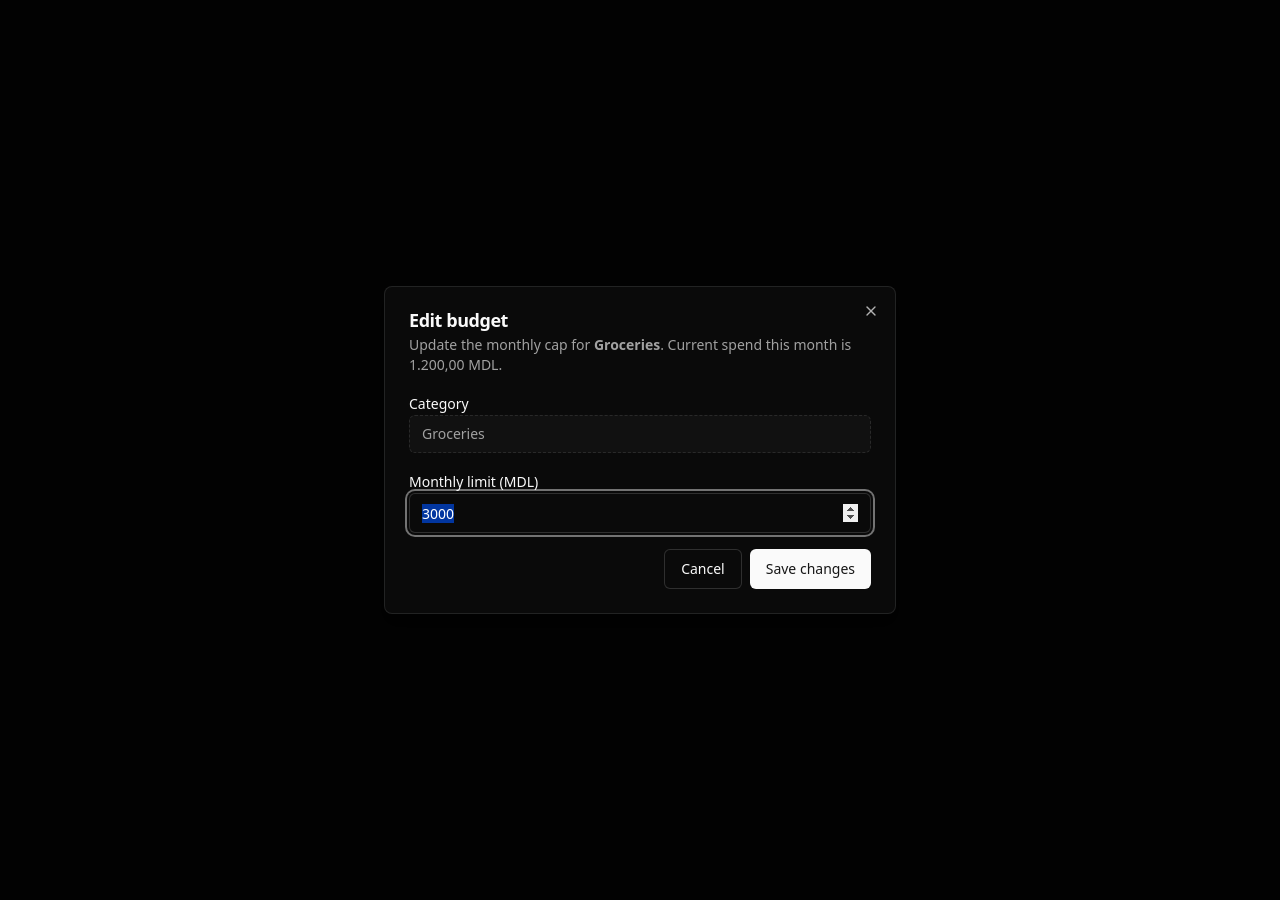
Scenario: EditBudgetDialog › surfaces a 404 as an inline field error
Replace the text in the number field with test id "edit-budget-monthly-limit-input" with "4000" at (640, 513), box [409,493,871,533]
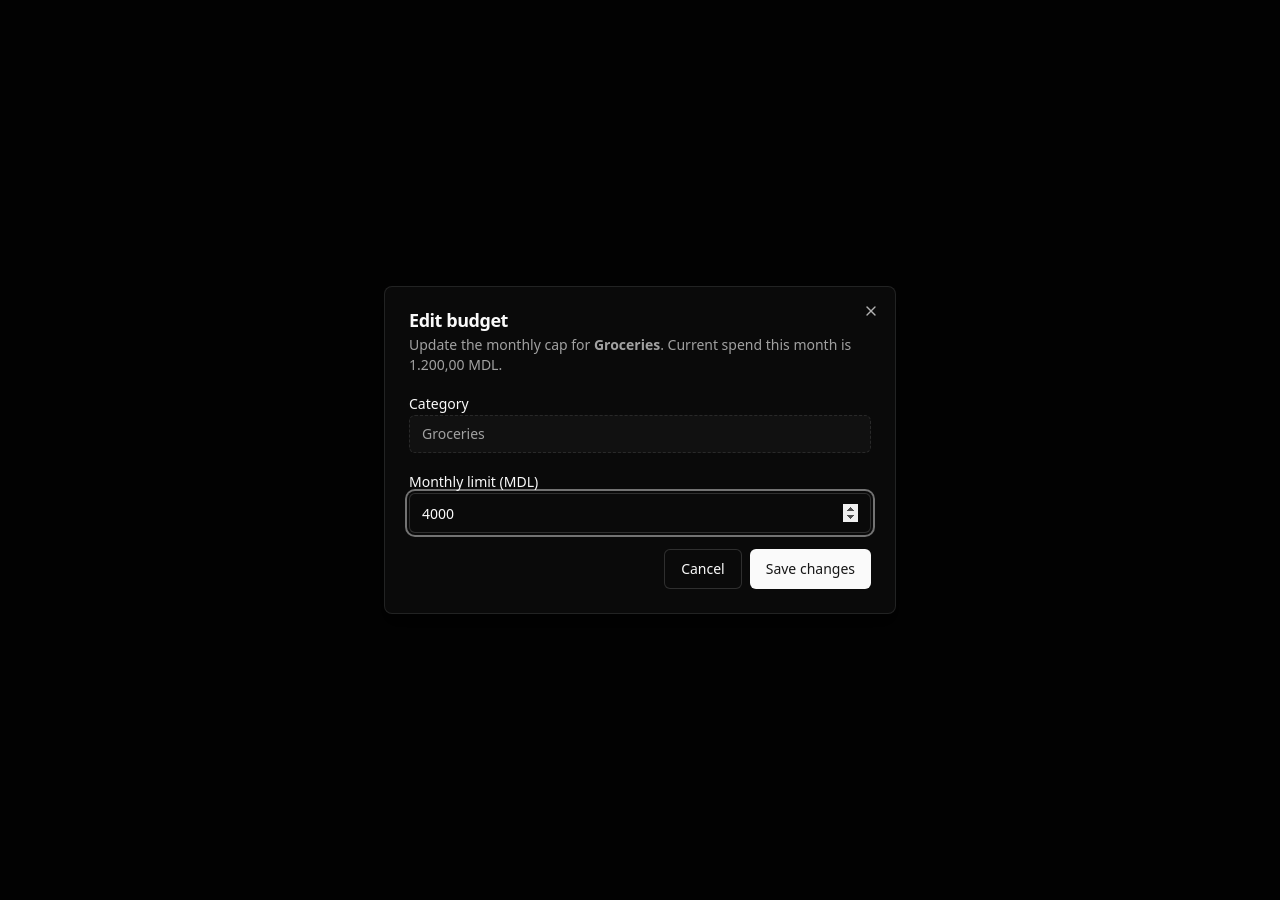
Click the button with test id "edit-budget-submit-button" at (810, 569), box [750,549,871,589]
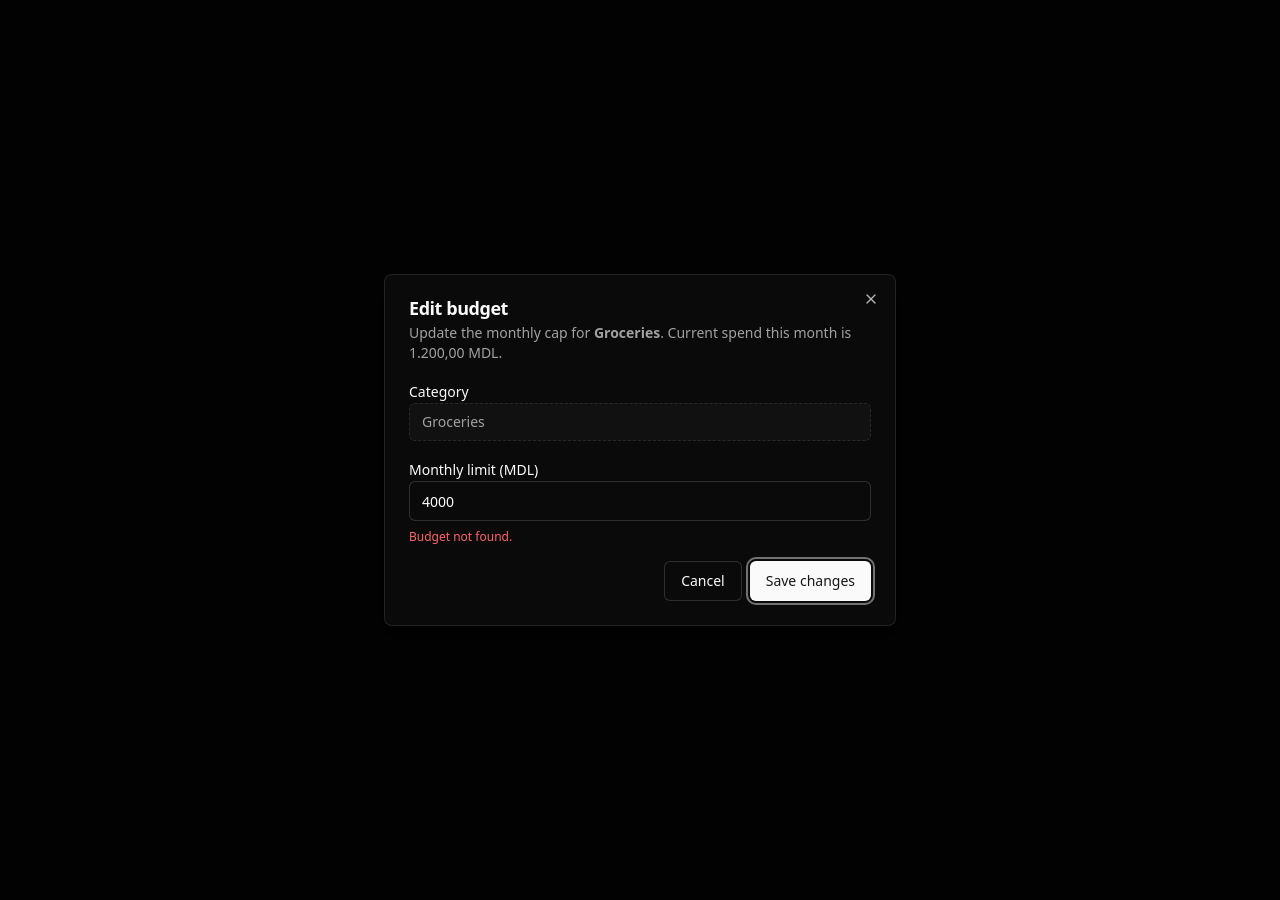
Check: the text "Budget not found." is shown, box [409,528,512,545]
